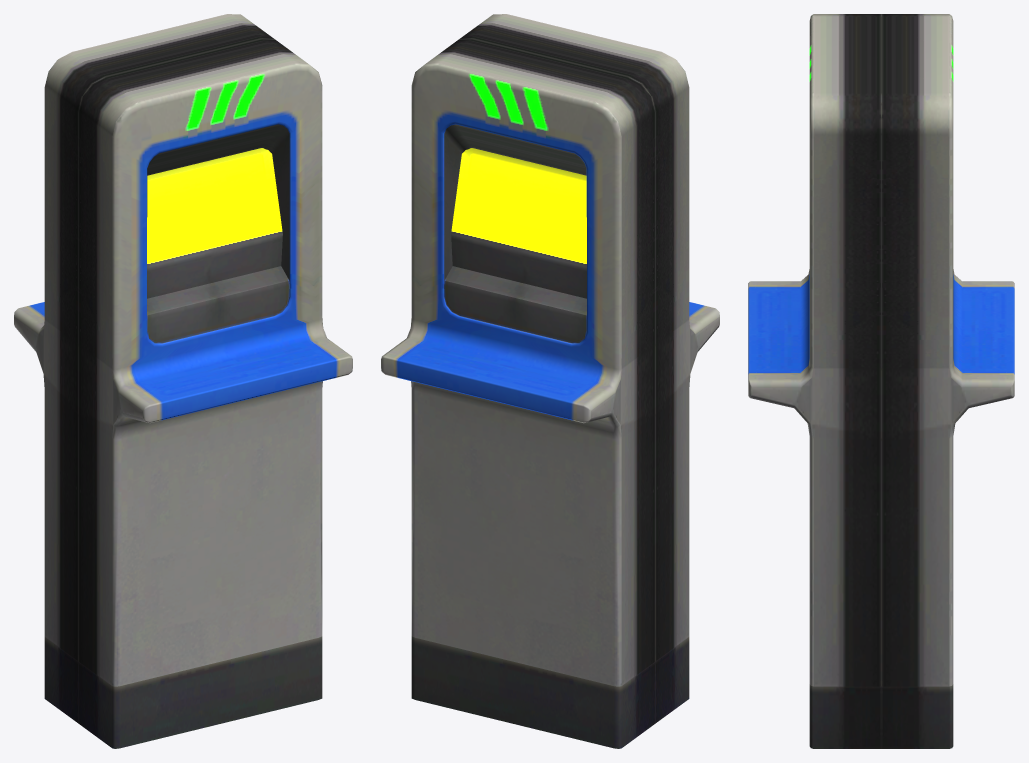
File: im_mall_atm.glb
3 views of the same model, side by side, from view 1: azimuth 30°, elevation 25°; view 2: azimuth 150°, elevation 25°; view 3: azimuth 270°, elevation 25° (orthographic).
Parts seen in each view (by area): view 1: im_mall_atm; view 2: im_mall_atm; view 3: im_mall_atm.
Part boxes in pixels (x1=…): im_mall_atm: x1=14, y1=14, x2=352, y2=748; im_mall_atm: x1=381, y1=14, x2=719, y2=748; im_mall_atm: x1=748, y1=14, x2=1014, y2=748.
Bounding box in the file's own units: 0.594 × 1.73 × 0.65.
Materials: 1 (1 with a texture image).
